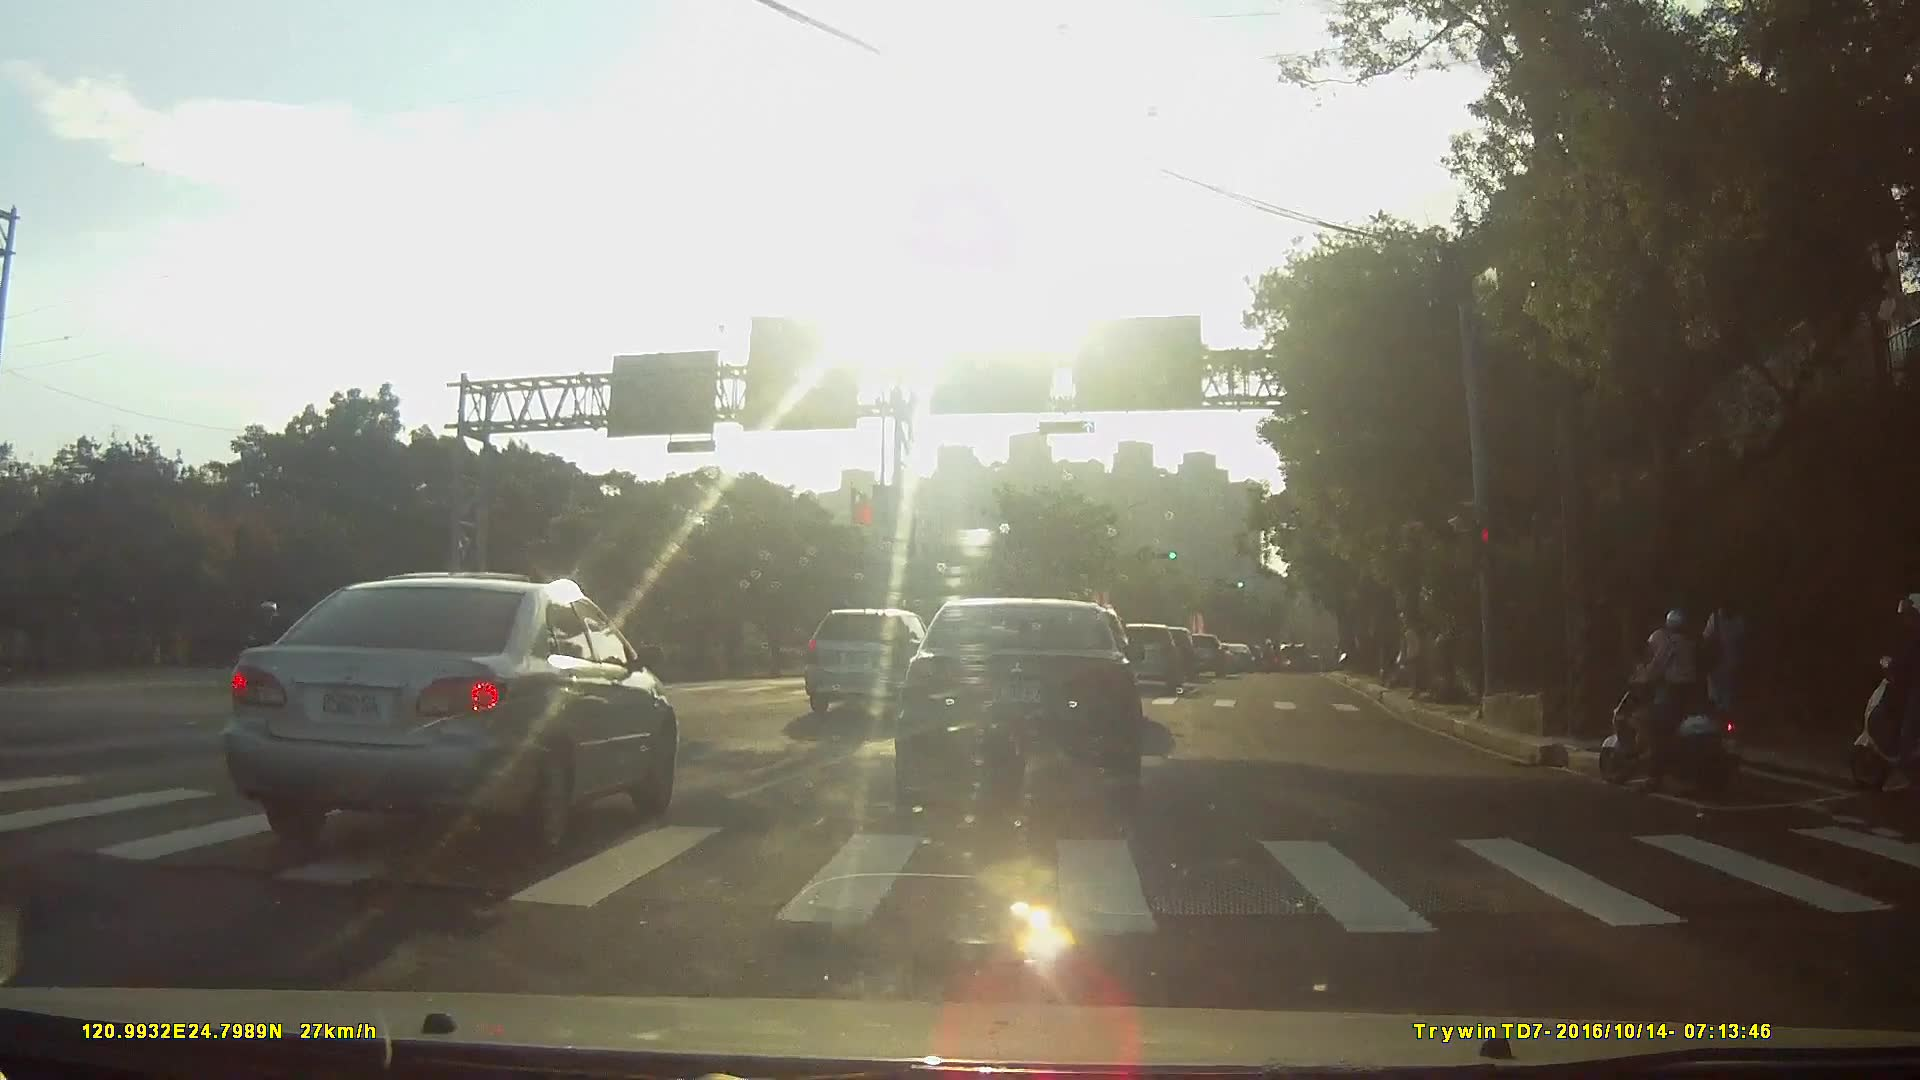pedestrian: (1697, 587, 1755, 743)
rider: (1596, 608, 1752, 802), (1843, 597, 1920, 792), (241, 601, 295, 691)
vehicle: (207, 575, 678, 859), (892, 596, 1144, 806), (800, 608, 945, 718), (1107, 622, 1181, 691), (1174, 631, 1224, 674), (1217, 643, 1254, 671)
